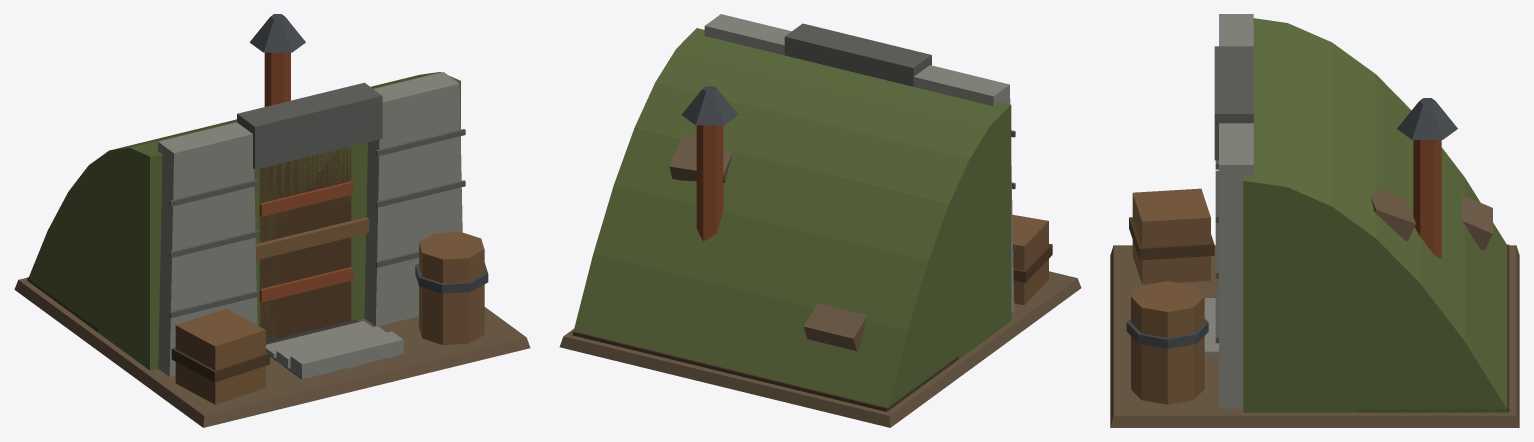
Rendered from cold_cellar_l1.glb.
3 views of the same model, side by side, from view 1: azimuth 30°, elevation 25°; view 2: azimuth 150°, elevation 25°; view 3: azimuth 270°, elevation 25° (orthographic). The views are drawn at different scales.
Parts seen in each view (by area): view 1: cold_cellar_l1_mesh; view 2: cold_cellar_l1_mesh; view 3: cold_cellar_l1_mesh.
Part boxes in pixels (left/top/right/bottom): cold_cellar_l1_mesh: left=14, top=14, right=530, bottom=427; cold_cellar_l1_mesh: left=559, top=14, right=1081, bottom=427; cold_cellar_l1_mesh: left=1110, top=14, right=1519, bottom=427.
Bounding box in the file's own units: 2 × 1.46 × 2.
